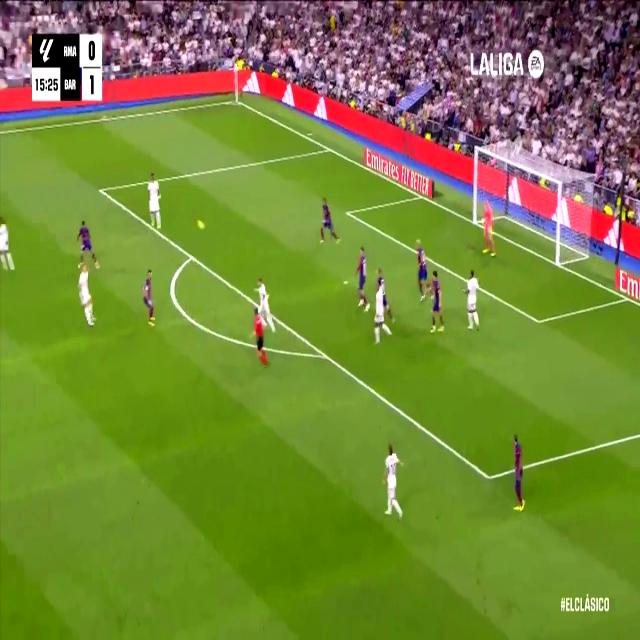bigarea_bottom_inner: (482, 462, 496, 492)
bigarea_top_inner: (96, 179, 106, 200)
bigarea_top_outter: (324, 140, 333, 156)
bottom_arc_area_intersection: (318, 342, 330, 367)
corner: (230, 94, 242, 107)
smallarea_top_inner: (344, 204, 352, 220)
top_arc_area_intersection: (187, 246, 196, 266)
